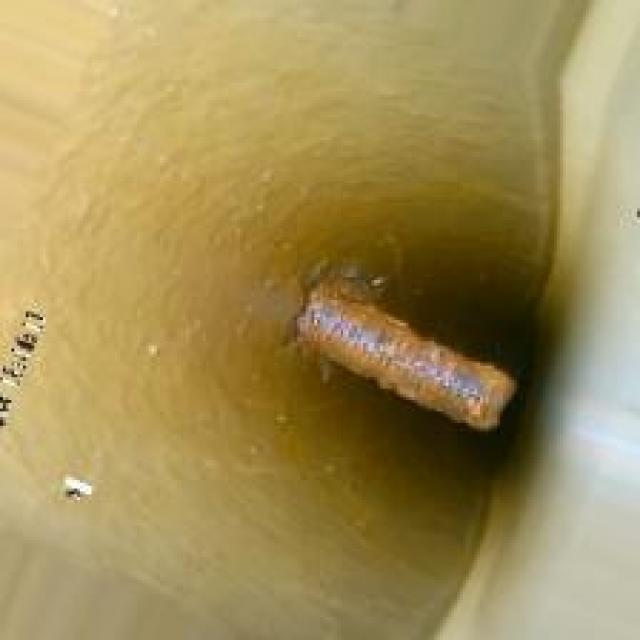ferrule: (280, 272, 520, 432)
